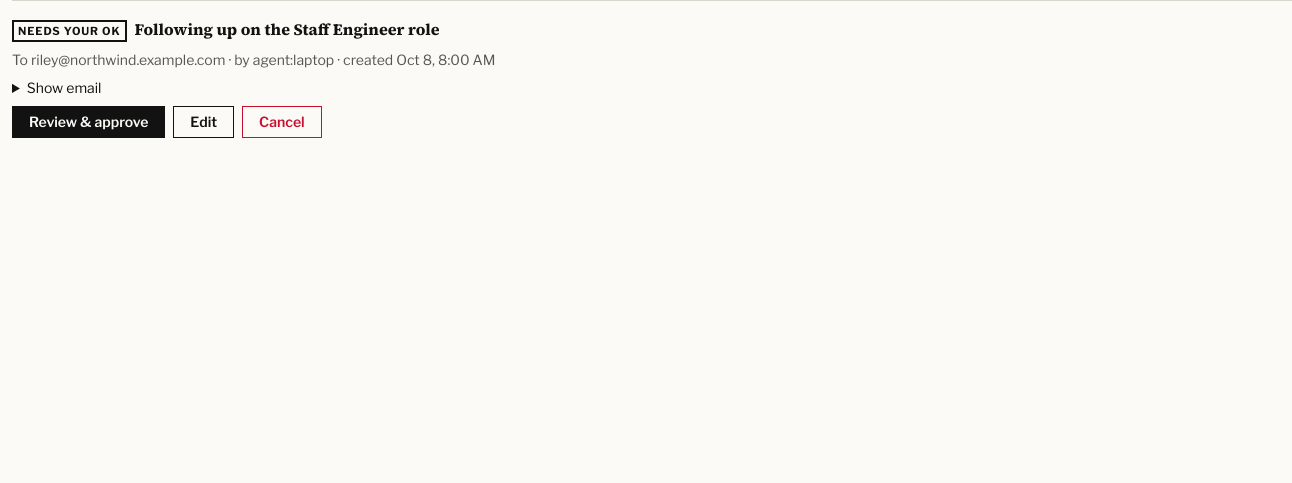
Scenario: EmailCard › asks for a confirmation before anything is approved
The image size is (1292, 483).
Click the button "Review & approve" at point(89, 122), box [12, 106, 165, 138]
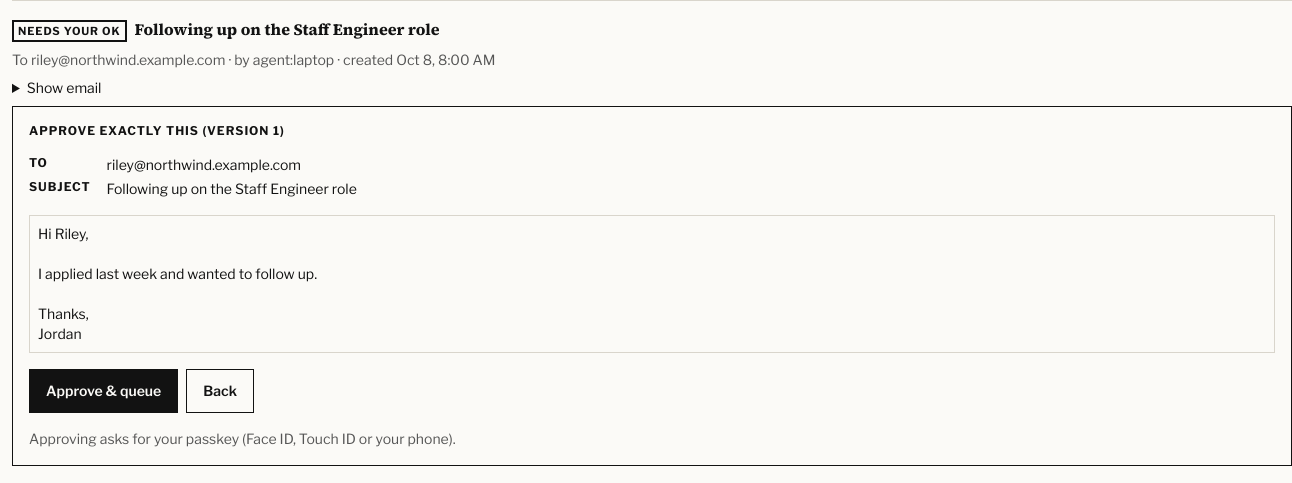
Expected: the element named "Approve this email" is shown
